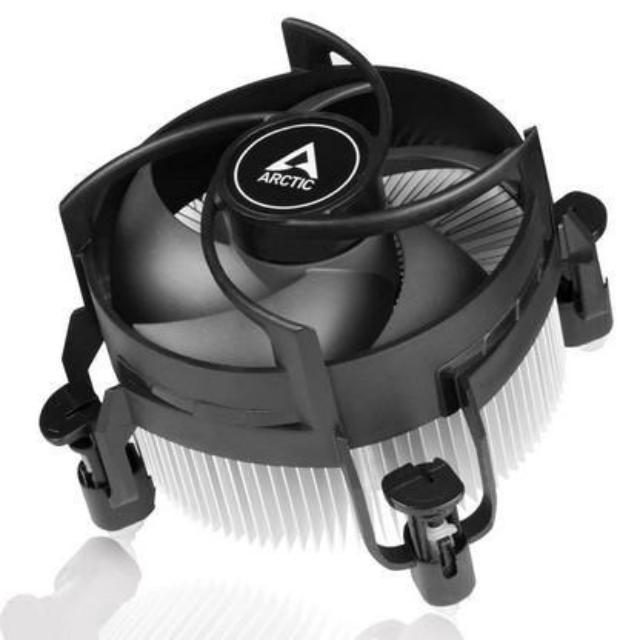CPU_Fan: (29, 8, 618, 614)
